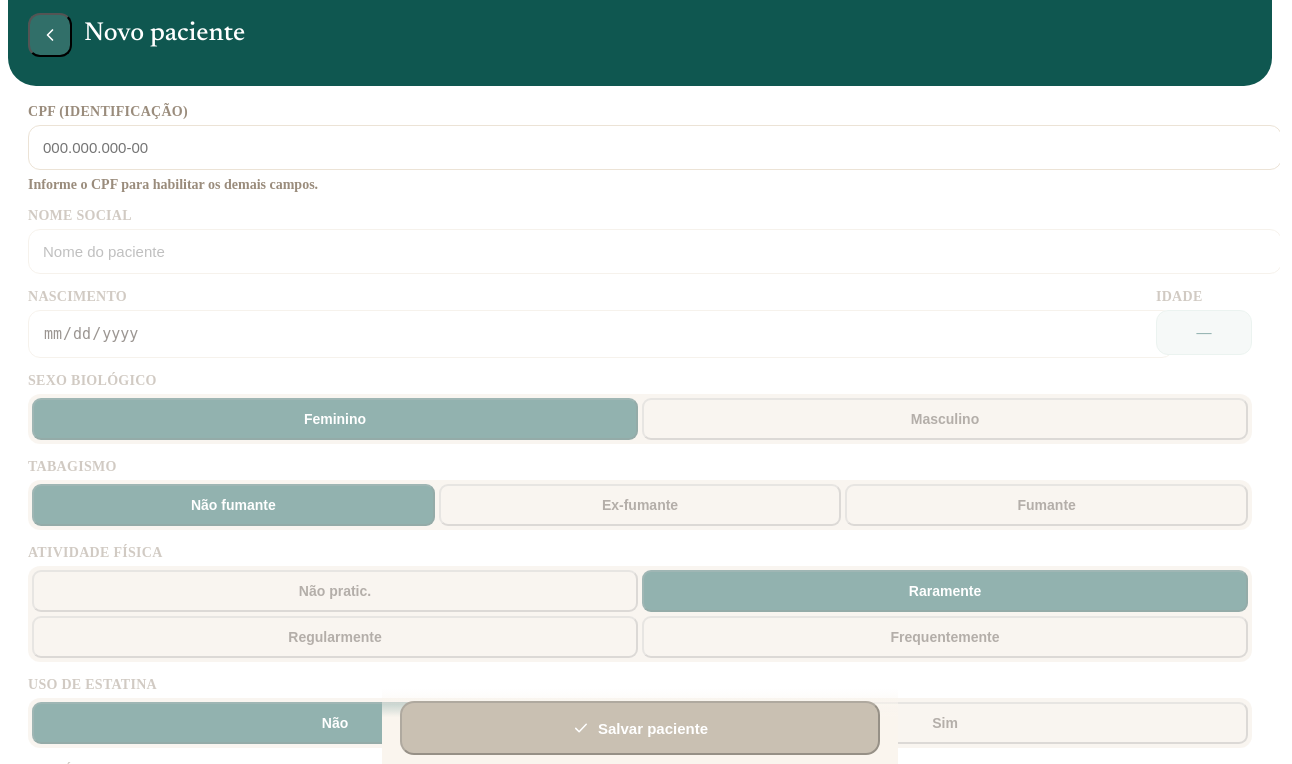
Cadastrar paciente (UC02) › exige a data do evento quando o histórico é aterosclerótico
This screenshot has width=1292, height=764.
Type "11144477735" into the field named "CPF (identificação)". click: (654, 148)
box: top-left (28, 125), bottom-right (1280, 170)
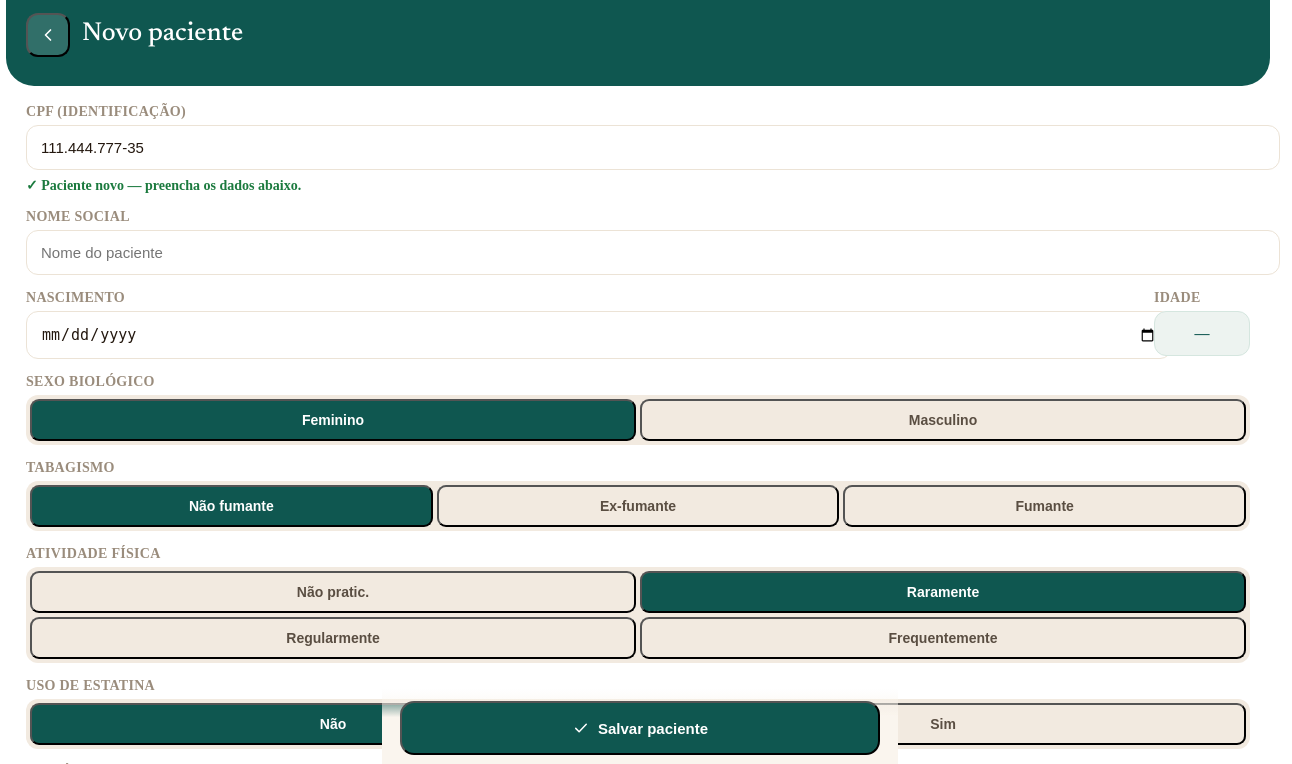
Check: the text "✓ Paciente novo — preencha os dados abaixo." is shown, box top-left (26, 178), bottom-right (301, 193)
Type "João Teste" into the field named "Nome social". click: (653, 253)
box: top-left (26, 230), bottom-right (1280, 275)
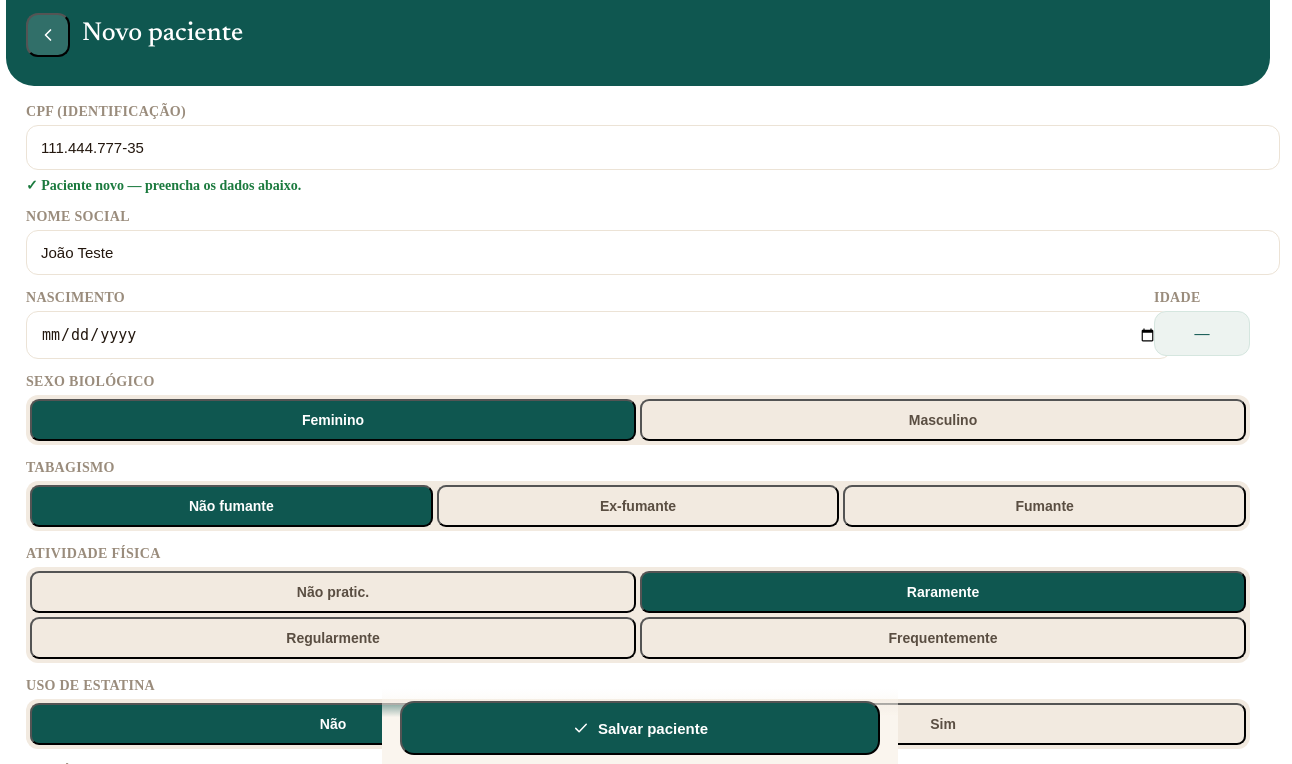
Type "1970-05-04" into the date field named "Data de nascimento". click: (599, 335)
box: top-left (26, 311), bottom-right (1172, 359)
(page scrolled)
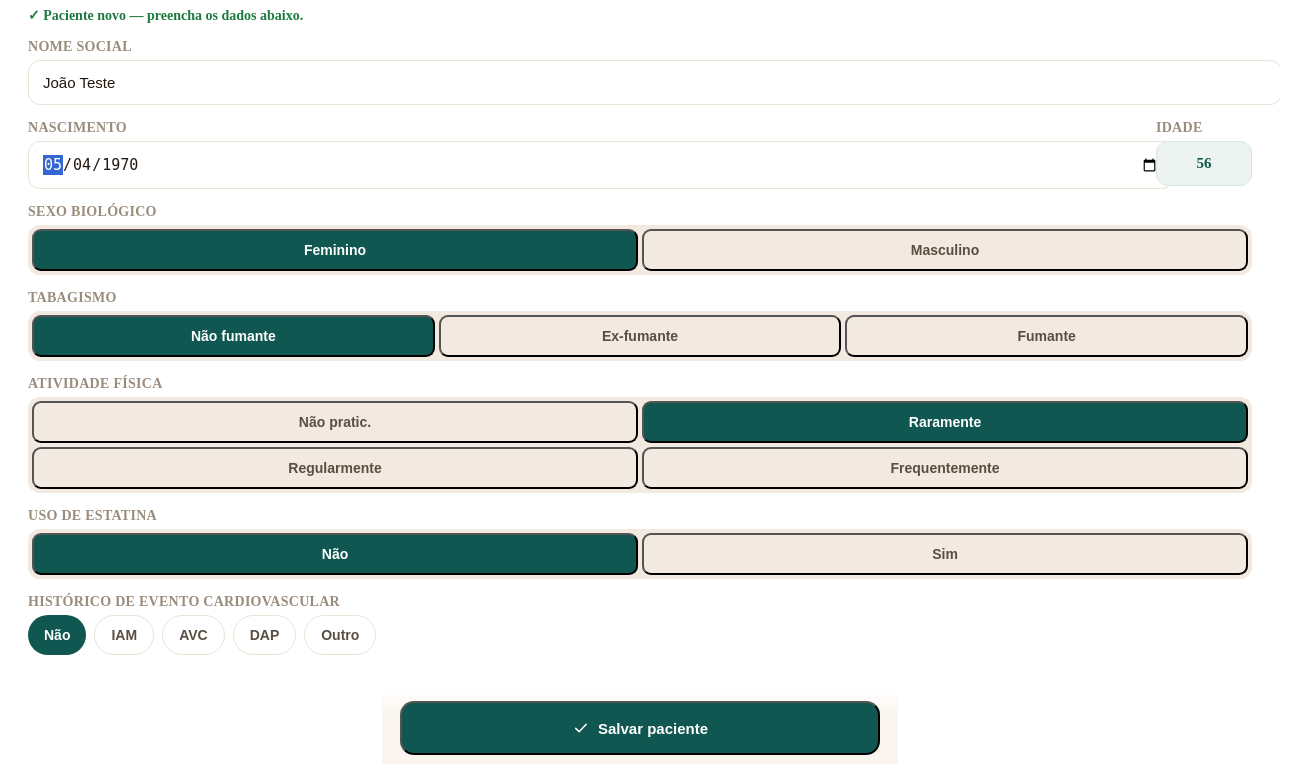
Click the button "IAM". click: (124, 635)
box: top-left (94, 615), bottom-right (154, 655)
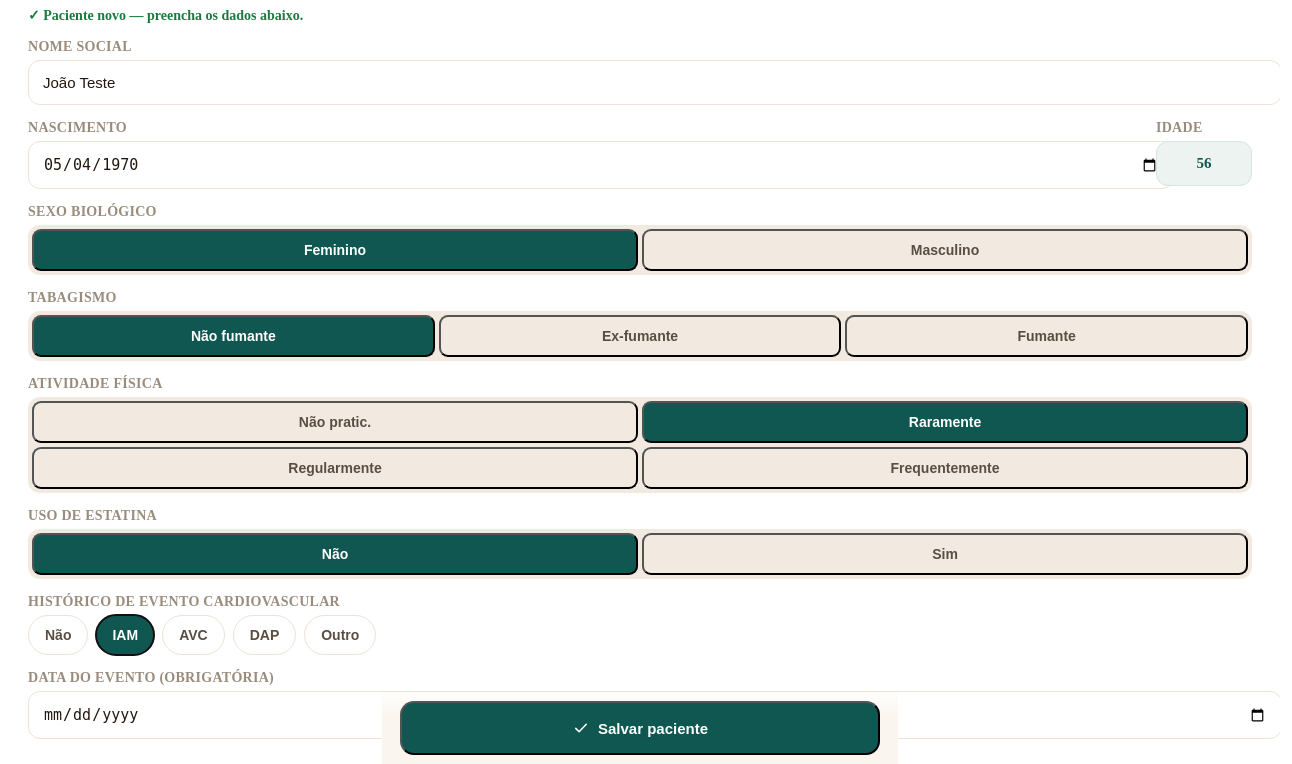
Click the button "Salvar paciente". click: (640, 728)
box: top-left (400, 701), bottom-right (880, 755)
(page scrolled)
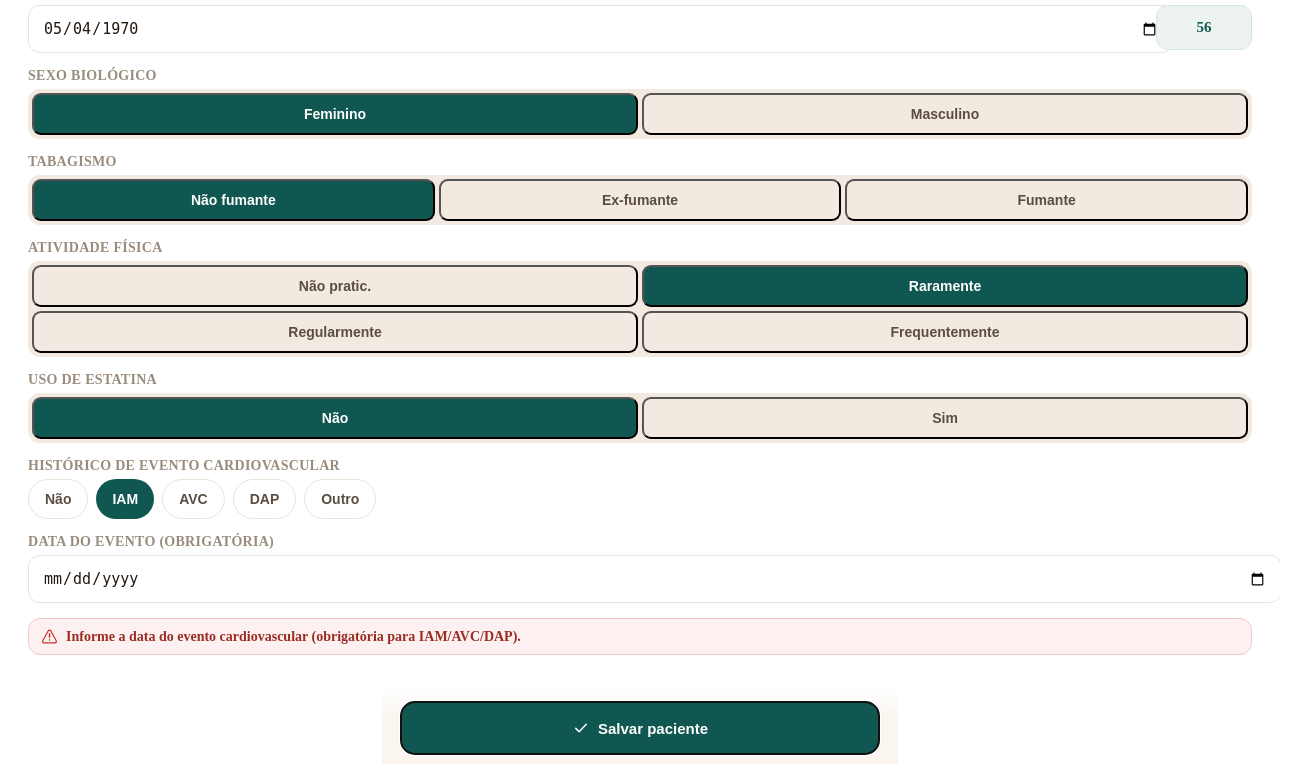
Check: the text "data do evento cardiovascular" is shown, box top-left (66, 629), bottom-right (521, 644)
